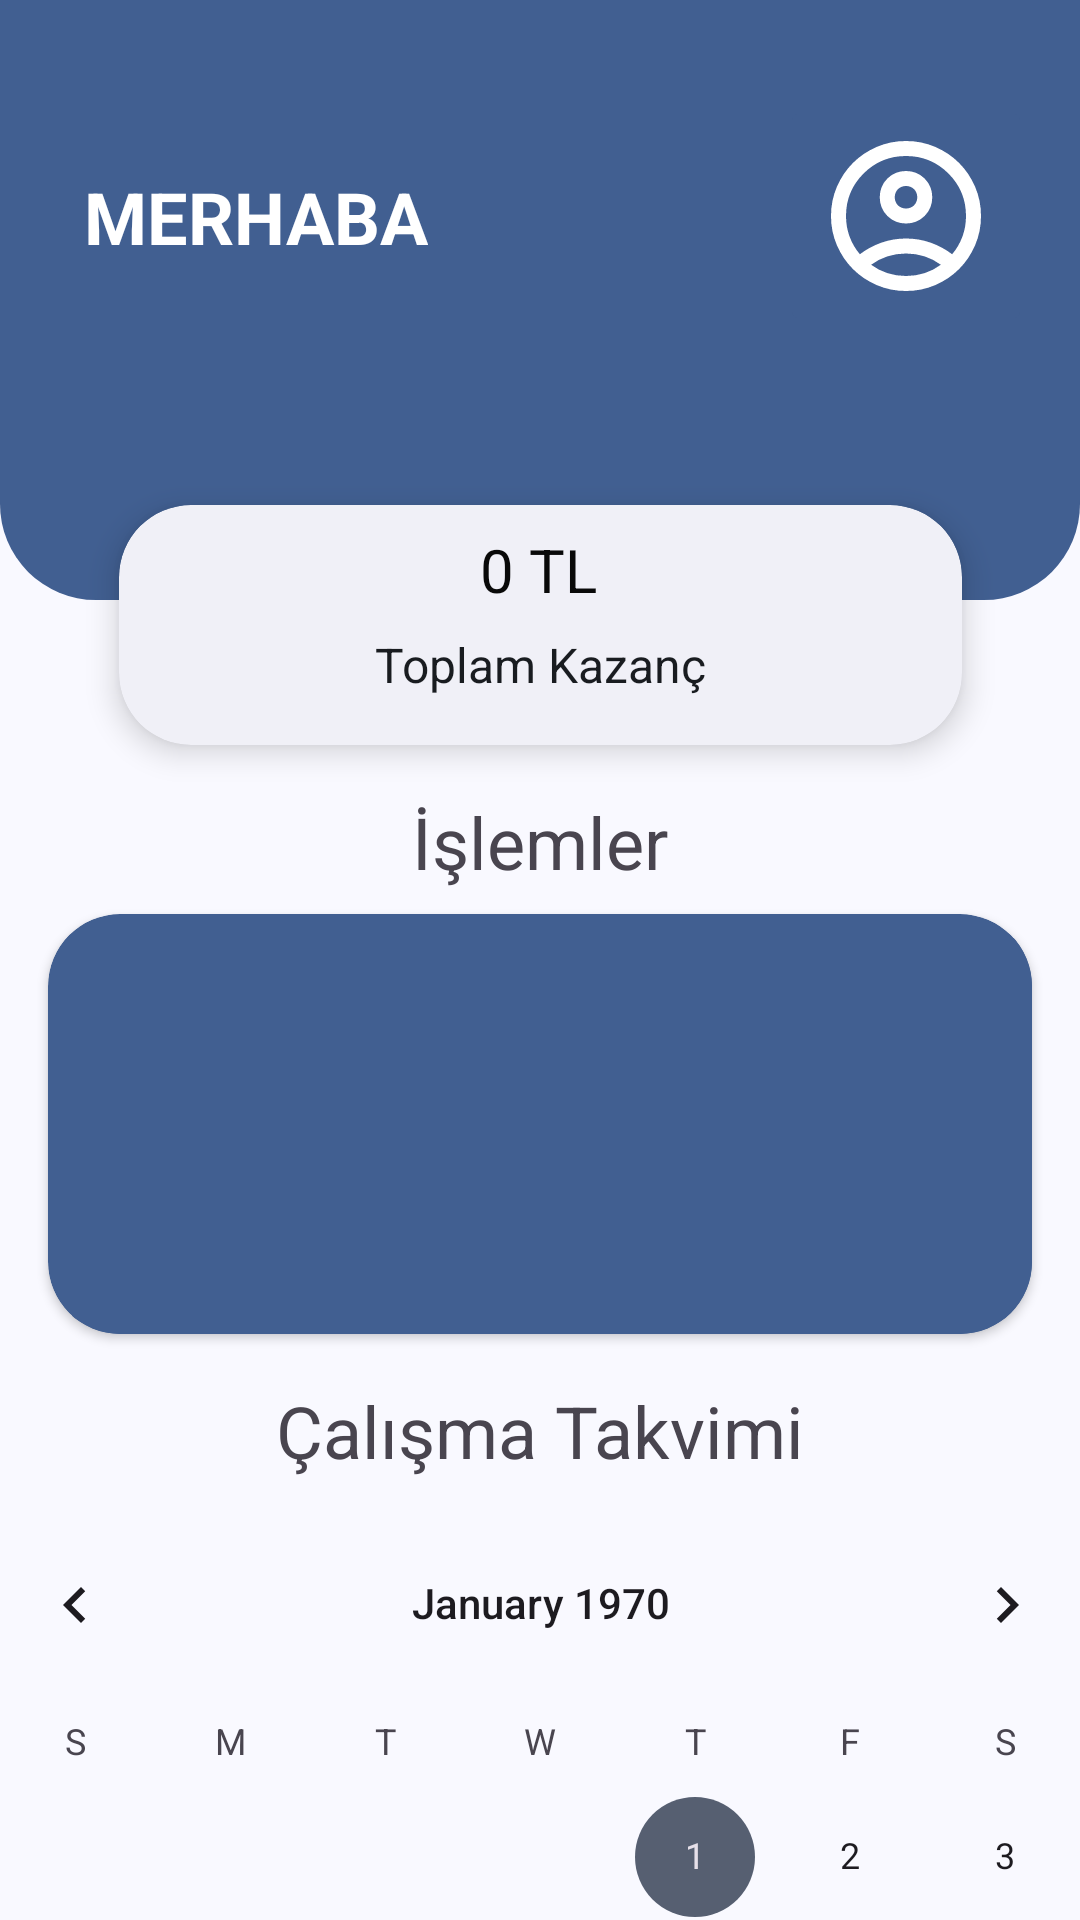

Named icons in this screenshot (1080 × 1920) and their bounding boxes, bbox=[x1, y1, x2, y2]:
account circle: bbox=[831, 141, 981, 291]
